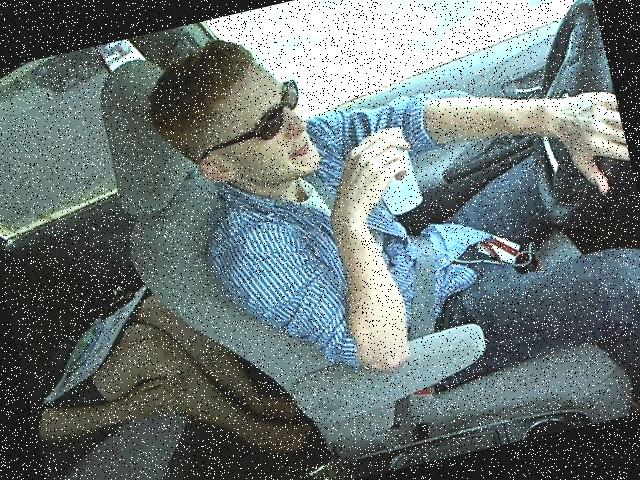c4 - Drinking: (113, 0, 639, 420)
